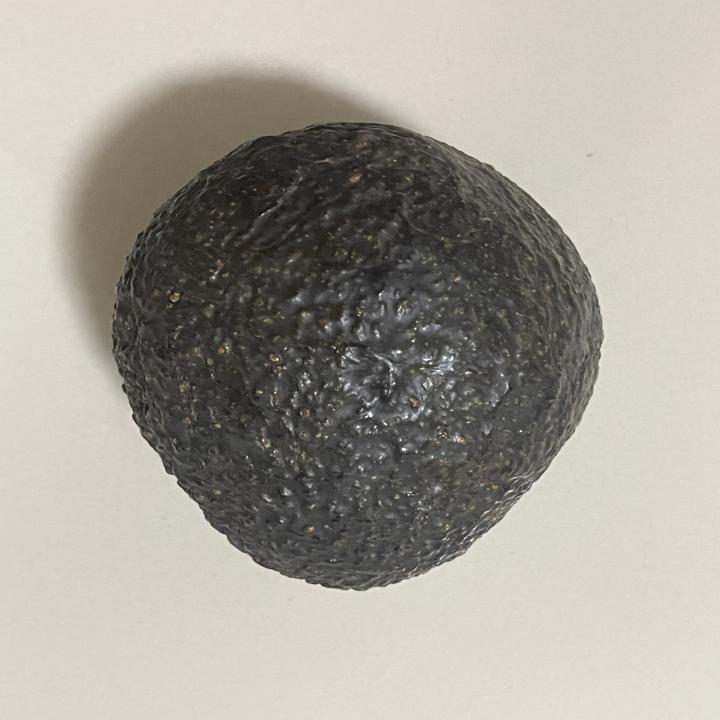Level2: (100, 116, 614, 600)
